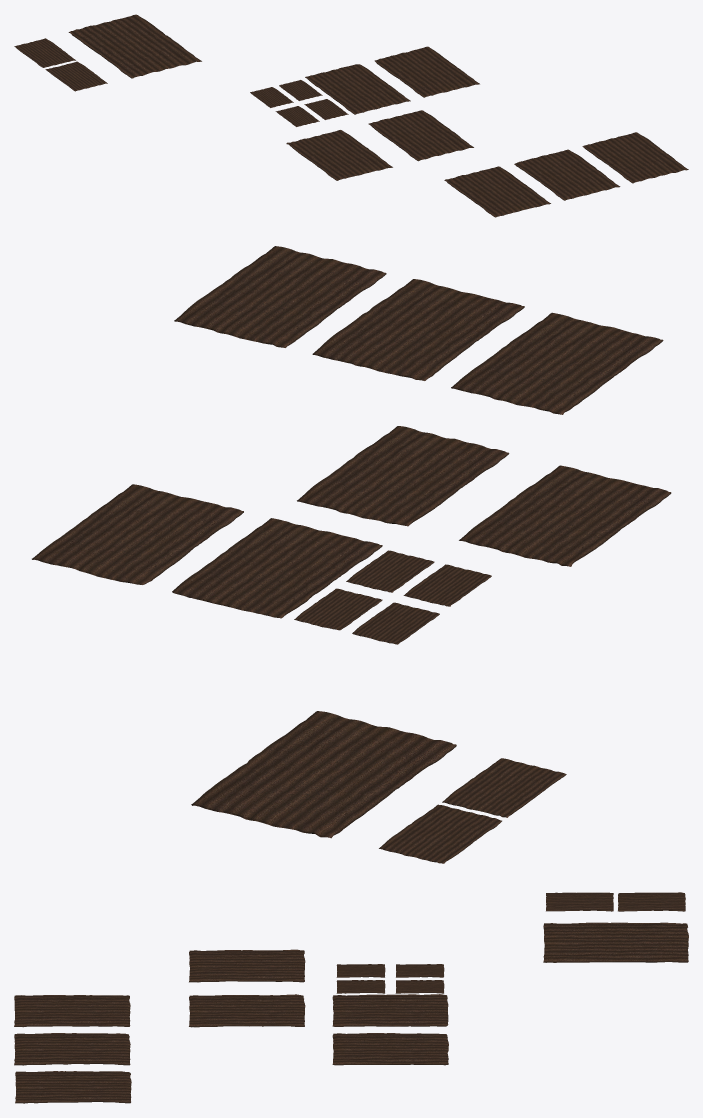
The model's file is TerrenoFix.fbx.
3 views of the same model, one above another, from view 1: azimuth 30°, elevation 25°; view 2: azimuth 150°, elevation 25°; view 3: azimuth 270°, elevation 25° (orthographic). The views are drawn at different scales.
Visible parts, largest first — view 1: Terreno; view 2: Terreno; view 3: Terreno.
Part boxes in pixels (left/top/right/bottom): Terreno: left=14, top=14, right=688, bottom=217; Terreno: left=32, top=246, right=671, bottom=863; Terreno: left=14, top=892, right=688, bottom=1103.
Bounding box in the file's own units: 9725 × 60.06 × 13183.
